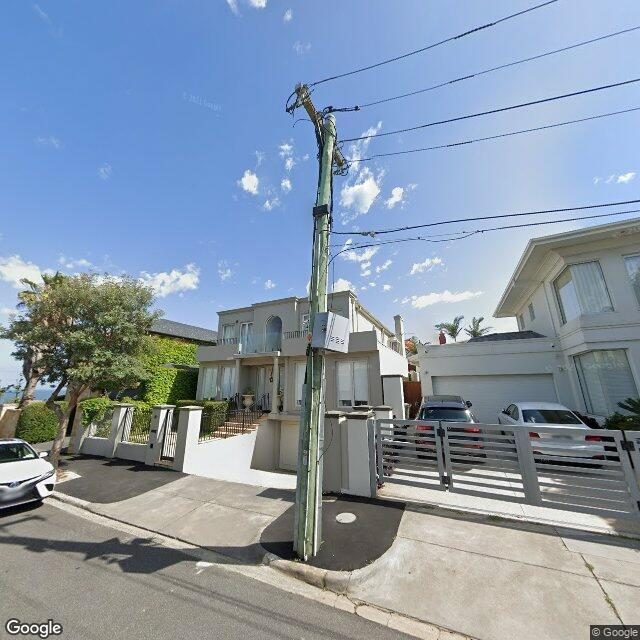crossarm: (295, 82, 343, 166)
timber-pole: (293, 114, 336, 560)
transformer: (310, 312, 350, 354)
